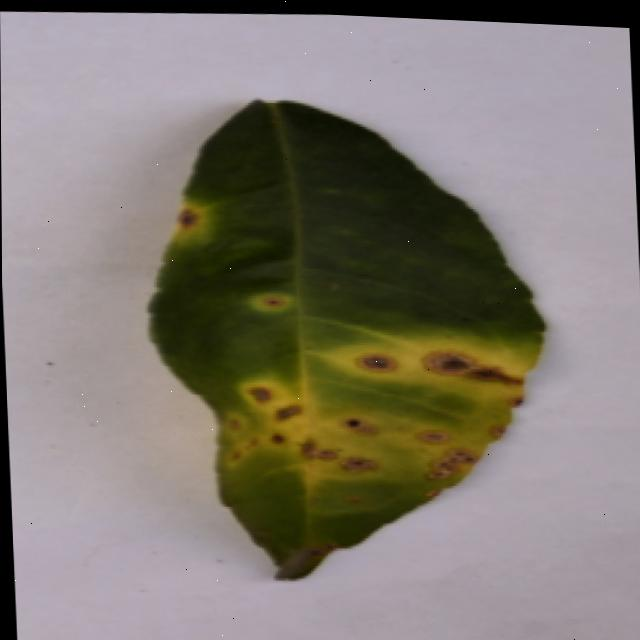canker: (152, 102, 543, 578), (196, 359, 381, 502), (327, 307, 532, 410), (401, 392, 492, 520), (240, 273, 301, 326), (170, 192, 201, 236)
